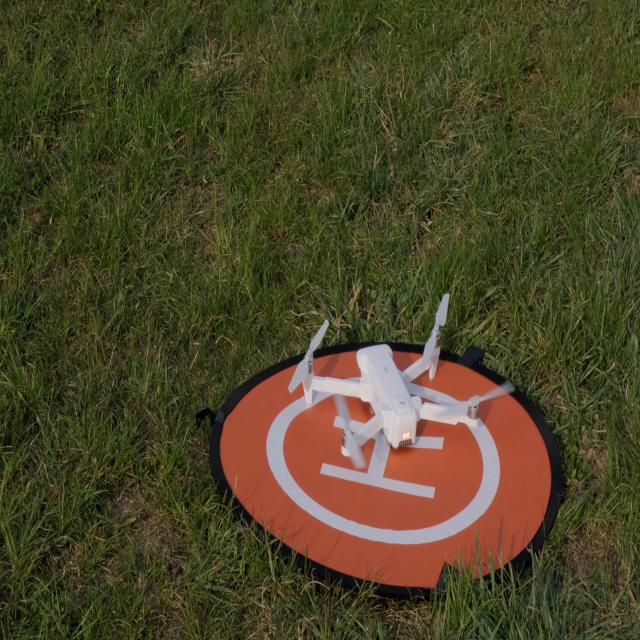drone: (288, 292, 516, 470)
